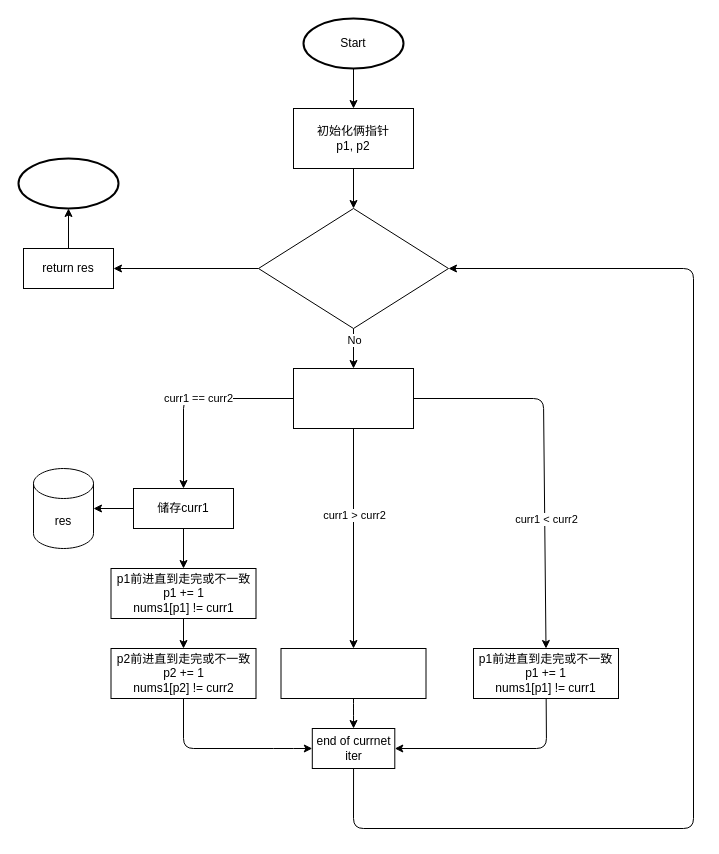
This 719x854 diagram has some shape labels left out. The shapes that lost their labels are listed below. From the top down, each one's box as (x1, y1, x2, y2) in pixels, then its label:
(17, 157, 119, 209): end
(258, 208, 448, 328): 走完至少一个array了么? while p1 < len(nums1) and p2 < len(nums2)
(292, 368, 414, 428): 获取指针指向的两 个数，curr1,curr2
(280, 648, 426, 698): p2前进直到走完或不一致 p2 += 1 nums2[p2] != curr2
